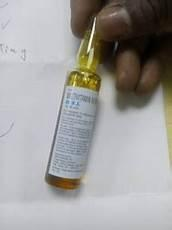Syringe: (34, 16, 107, 195)
